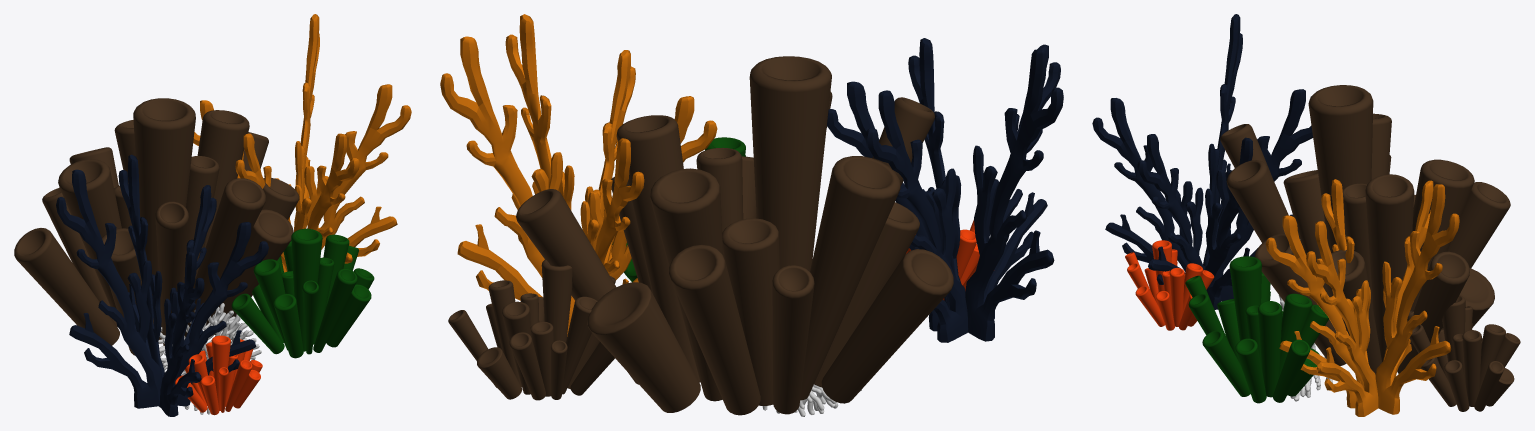
File: coral_4.obj
3 renders of one model, left to right at view 1: azimuth 30°, elevation 25°; view 2: azimuth 150°, elevation 25°; view 3: azimuth 270°, elevation 25°, orthographic. The views are drawn at different scales.
Visible parts, largest first — view 1: pCylinder35_ParlakVersiyon_0.001; view 2: pCylinder35_ParlakVersiyon_0.001; view 3: pCylinder35_ParlakVersiyon_0.001.
Boxes of the visible parts, left/top/right/bottom form: pCylinder35_ParlakVersiyon_0.001: left=14, top=14, right=411, bottom=416; pCylinder35_ParlakVersiyon_0.001: left=440, top=14, right=1063, bottom=416; pCylinder35_ParlakVersiyon_0.001: left=1092, top=14, right=1520, bottom=416.
Size of the model in its own units: 2.49 by 1.8 by 2.31.
